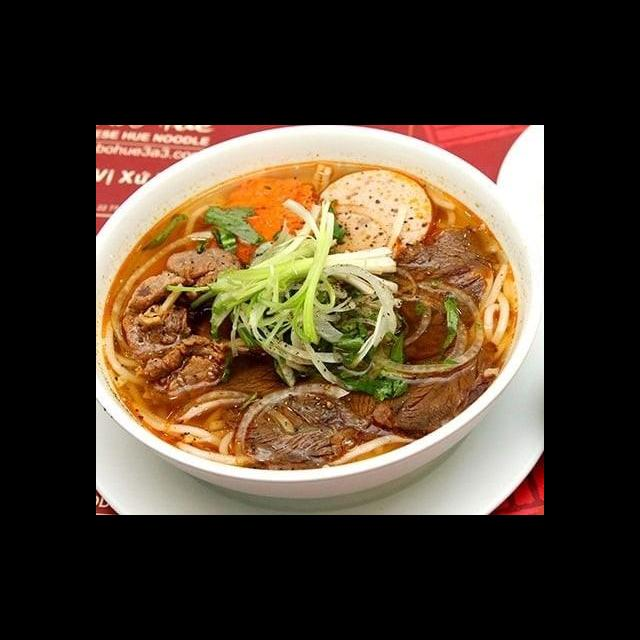bun: (140, 148, 262, 268), (264, 438, 394, 495)
bun bo: (120, 133, 505, 488)
thit bo: (140, 225, 292, 378), (214, 144, 408, 256), (260, 358, 435, 474), (175, 335, 308, 480)
